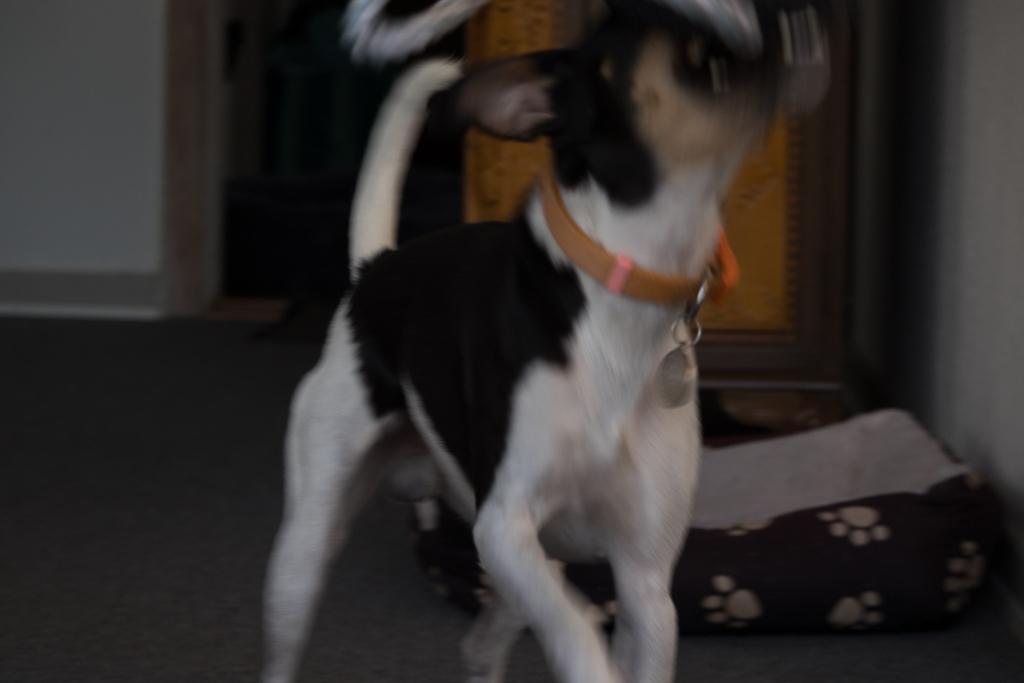Dog: (242, 0, 843, 683)
